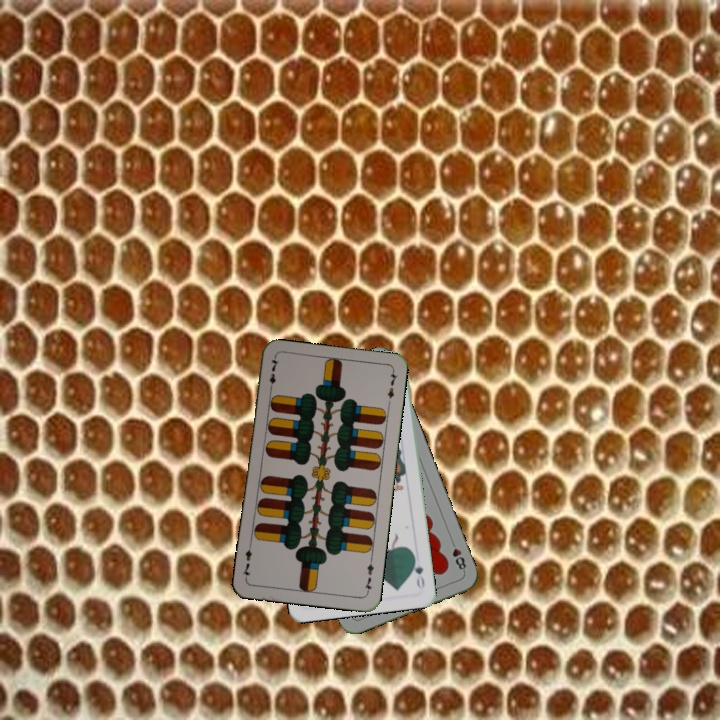E7: (360, 555, 376, 596), (265, 354, 281, 395)
GO: (408, 551, 427, 591)
H8: (447, 536, 469, 575)
